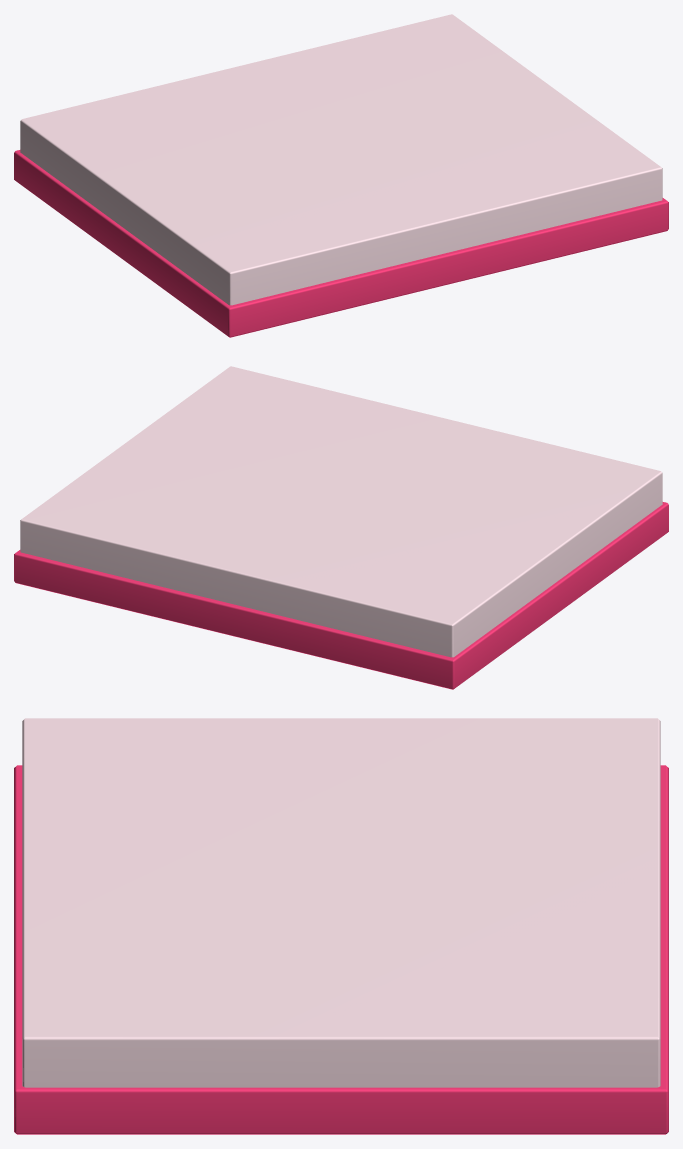
File: Store_4_Base_1.glb
3 views of the same model, one above another, from view 1: azimuth 30°, elevation 25°; view 2: azimuth 150°, elevation 25°; view 3: azimuth 270°, elevation 25° (orthographic). The views are drawn at different scales.
Visible parts, largest first — view 1: Store_4_Base_1; view 2: Store_4_Base_1; view 3: Store_4_Base_1.
Boxes of the visible parts, left/top/right/bottom form: Store_4_Base_1: left=14, top=14, right=668, bottom=337; Store_4_Base_1: left=14, top=366, right=668, bottom=689; Store_4_Base_1: left=14, top=718, right=668, bottom=1134.
Size of the model in its own units: 11.85 by 1.62 by 10.06.
Materials: 1 (1 with a texture image).
